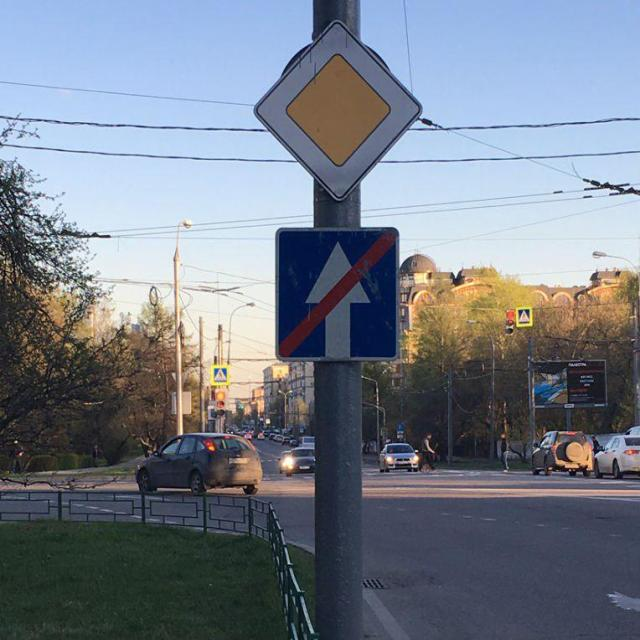Traffic sign: (254, 19, 431, 202), (270, 224, 404, 367), (512, 301, 537, 332), (206, 359, 230, 387)
